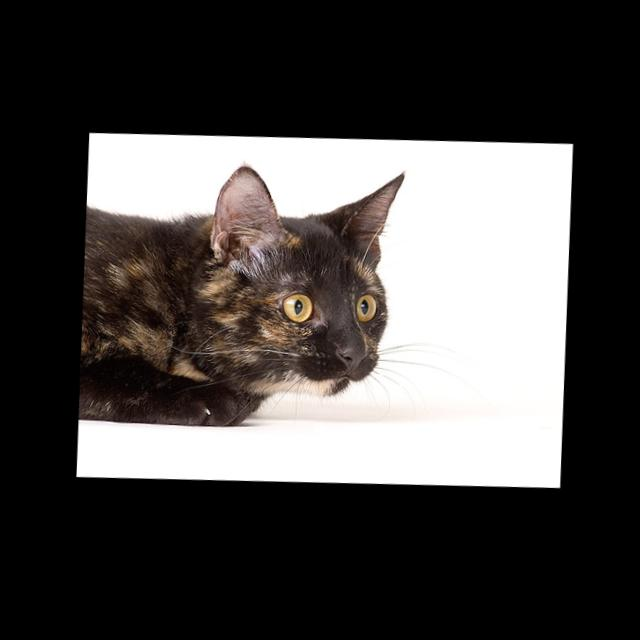animals: (234, 165, 406, 372)
